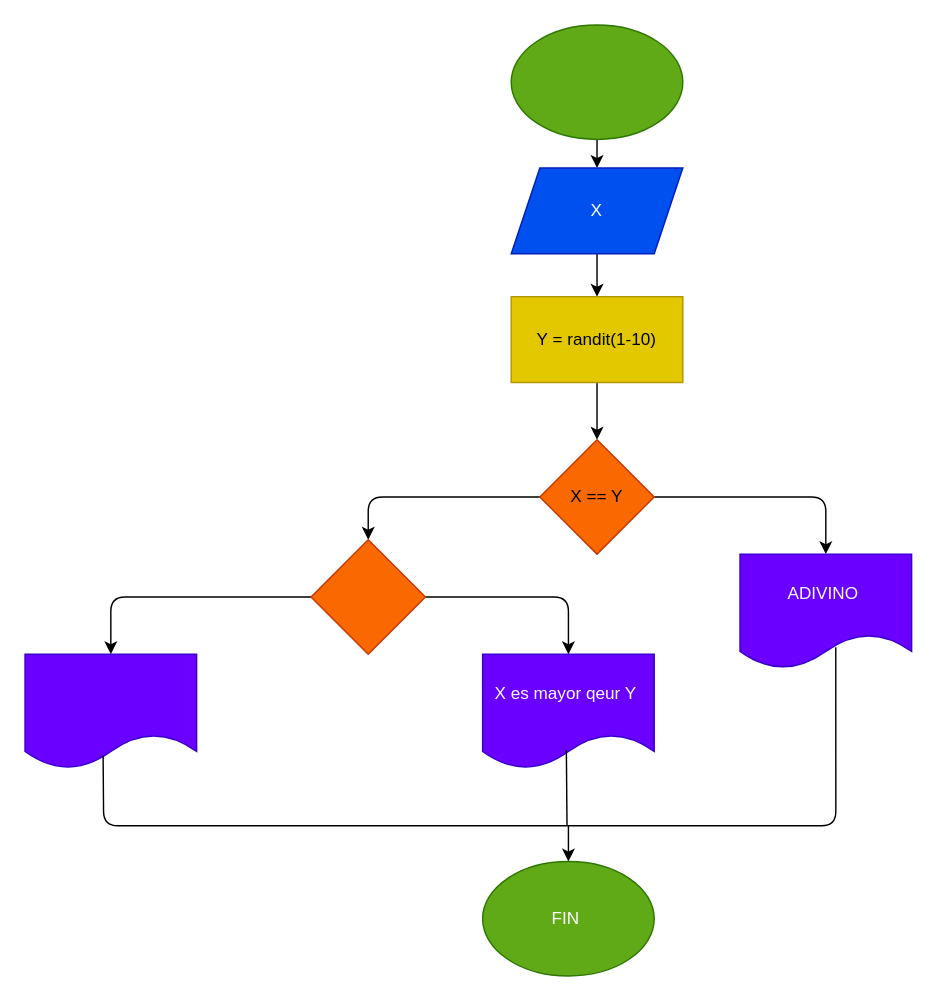
The diagram is 937 pixels wide and 1001 high, and some of its shapes have lost their labels. Each missing label, with the centre of its shape:
"INICIO" goes at point 596,81.
"X > Y" goes at point 367,596.
"X es menor que Y" goes at point 110,711.
